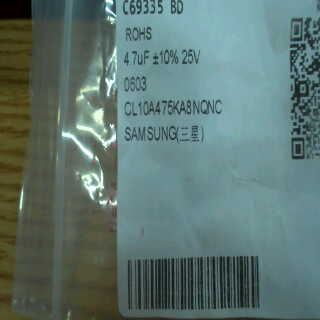4.7uF: (119, 47, 152, 70)
